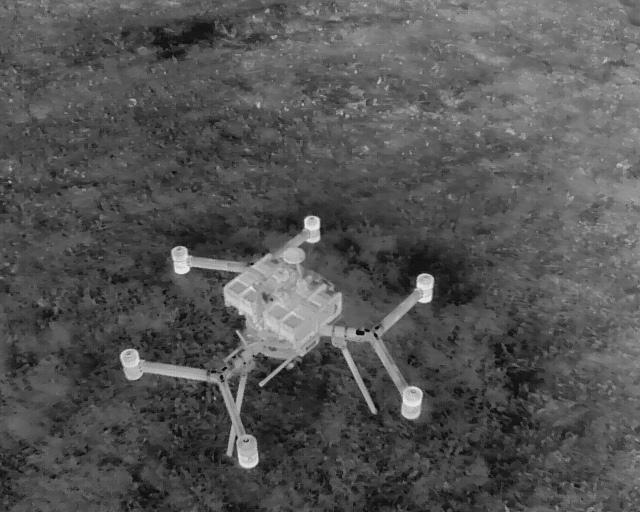drone: (63, 190, 470, 496)
